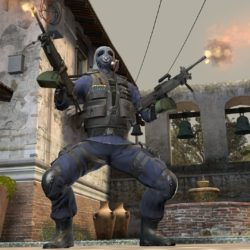c: (41, 43, 172, 250)
ch: (89, 45, 124, 75)
